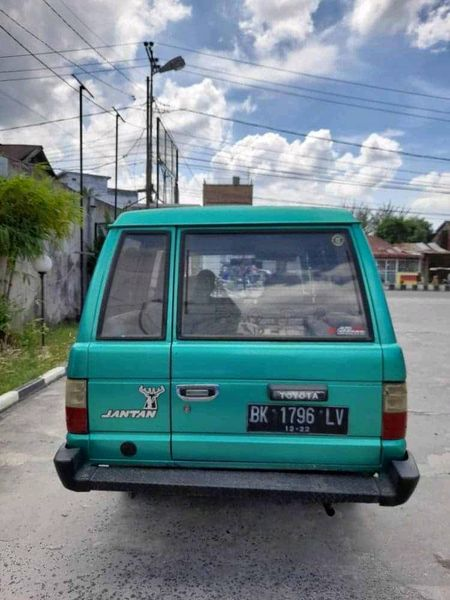plate: (247, 402, 352, 445)
